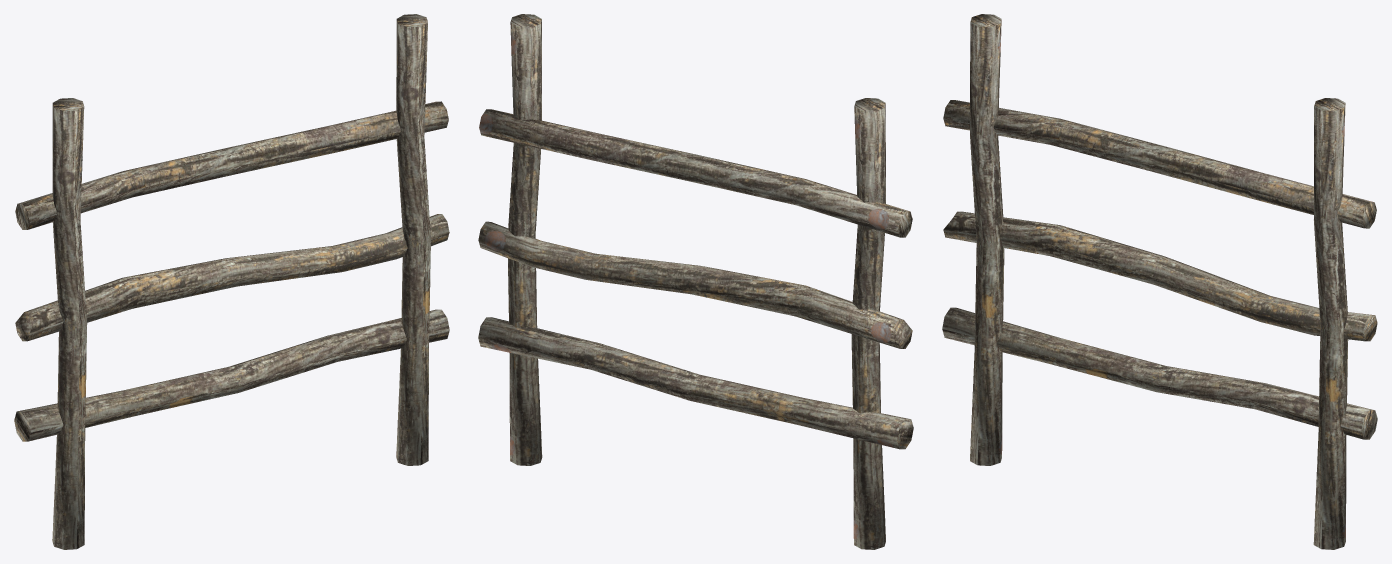
File: fence2.gltf
3 renders of one model, left to right at view 1: azimuth 30°, elevation 25°; view 2: azimuth 150°, elevation 25°; view 3: azimuth 330°, elevation 25°, orthographic.
Visible parts, largest first — view 1: Wood_03.001_Wood_0, Wood_03.002_Wood_0, Wood_02_Wood_0, Wood_03_Wood_0, Wood_01_Wood_0; view 2: Wood_02_Wood_0, Wood_03_Wood_0, Wood_01_Wood_0, Wood_03.001_Wood_0, Wood_03.002_Wood_0; view 3: Wood_03.002_Wood_0, Wood_03.001_Wood_0, Wood_02_Wood_0, Wood_03_Wood_0, Wood_01_Wood_0.
Part boxes in pixels (x1,y1,x2,y2): Wood_03.001_Wood_0: (396, 14, 430, 465); Wood_03.002_Wood_0: (52, 98, 87, 549); Wood_02_Wood_0: (15, 214, 449, 341); Wood_03_Wood_0: (14, 309, 449, 441); Wood_01_Wood_0: (15, 101, 448, 229); Wood_02_Wood_0: (478, 221, 912, 348); Wood_03_Wood_0: (478, 317, 913, 449); Wood_01_Wood_0: (479, 109, 912, 237); Wood_03.001_Wood_0: (508, 14, 542, 465); Wood_03.002_Wood_0: (851, 98, 885, 549); Wood_03.002_Wood_0: (970, 14, 1004, 465); Wood_03.001_Wood_0: (1313, 98, 1348, 549); Wood_02_Wood_0: (943, 211, 1377, 341); Wood_03_Wood_0: (942, 307, 1377, 439); Wood_01_Wood_0: (943, 100, 1376, 228).
Bounding box in the file's own units: 200 × 200 × 18.16.
1 material, 1 textured.
